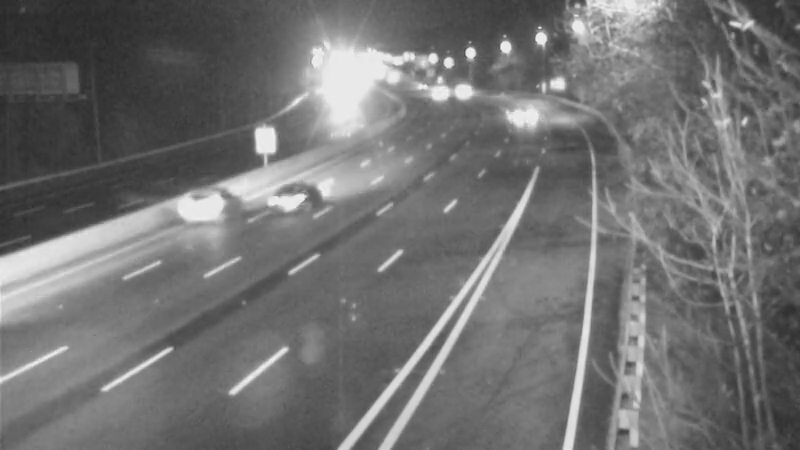vehicle: (245, 155, 325, 235), (164, 166, 244, 246), (393, 60, 443, 110), (435, 64, 485, 114), (411, 66, 461, 116), (497, 89, 547, 139)
